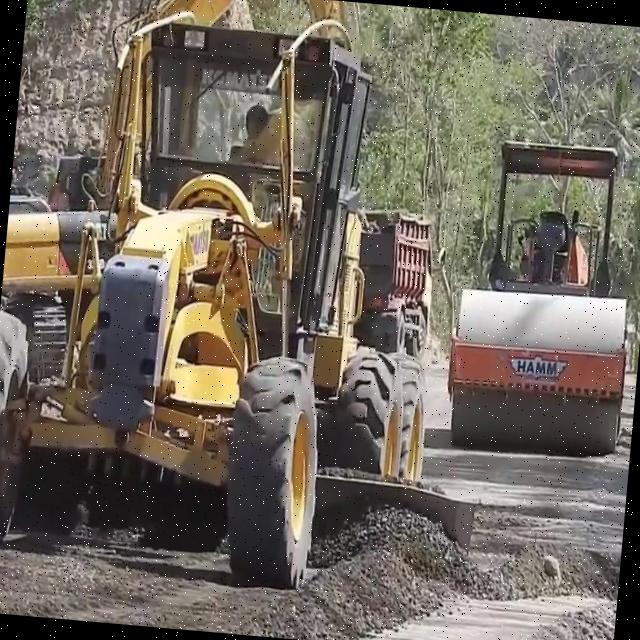Dump Truck: (354, 205, 440, 350)
Grader: (0, 12, 453, 577)
Roller: (442, 131, 640, 459)
